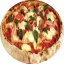basil: (31, 30, 39, 46), (37, 10, 46, 19), (18, 28, 24, 40), (7, 14, 15, 23), (28, 15, 37, 22)
pizza: (2, 1, 60, 63)
